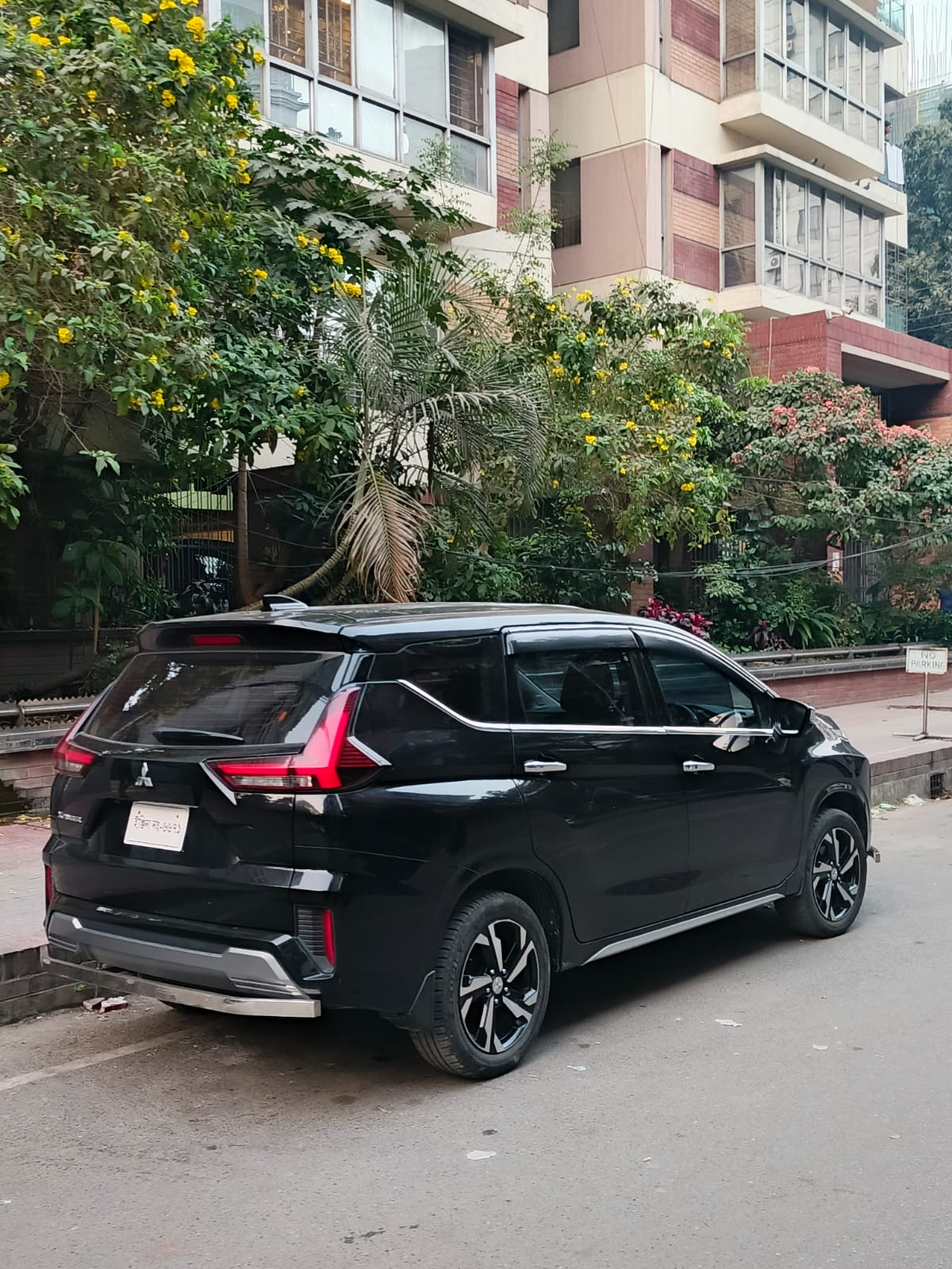private car: (48, 572, 886, 1086)
